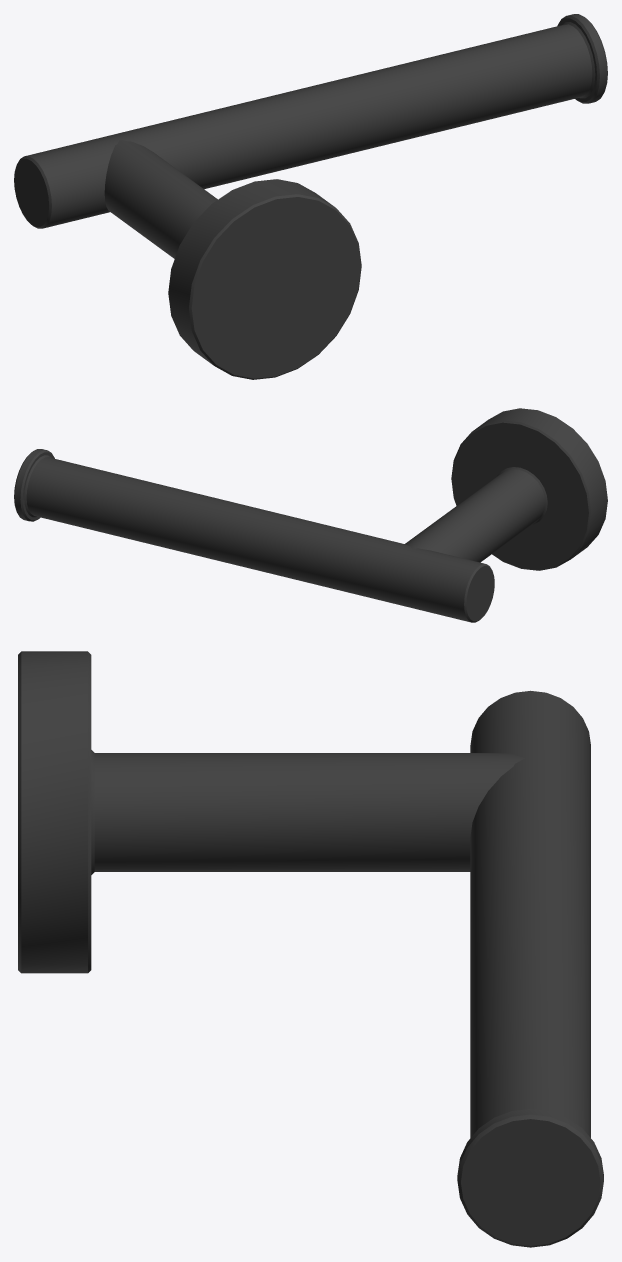
Rendered from IVY_650035.glb.
3 renders of one model, top to bottom at view 1: azimuth 30°, elevation 25°; view 2: azimuth 150°, elevation 25°; view 3: azimuth 270°, elevation 25°, orthographic. The views are drawn at different scales.
Parts seen in each view (by area): view 1: Body__0; view 2: Body__0; view 3: Body__0.
Boxes of the visible parts, <box> form: Body__0: <box>14,14,607,379</box>; Body__0: <box>14,408,607,622</box>; Body__0: <box>18,651,603,1247</box>.
Size of the model in its own units: 0.154 by 0.048 by 0.087.
1 material, 1 textured.
